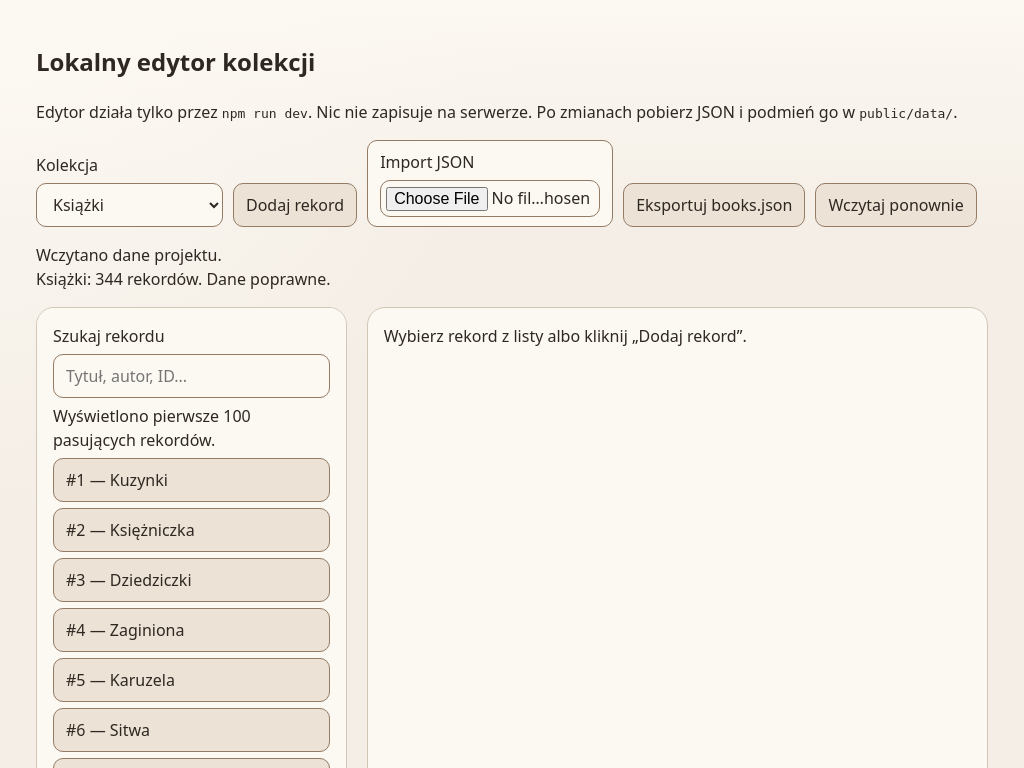
it: collection editor › edits and exports, keeps the ID read-only and blocks an incomplete new book
The width and height of the screenshot is (1024, 768).
Check: the text "Wczytano dane projektu." is shown, box [36,244,222,266]
Step 1. Click the button "#1 — Kuzynki" → (139,480), box [53,458,330,502]
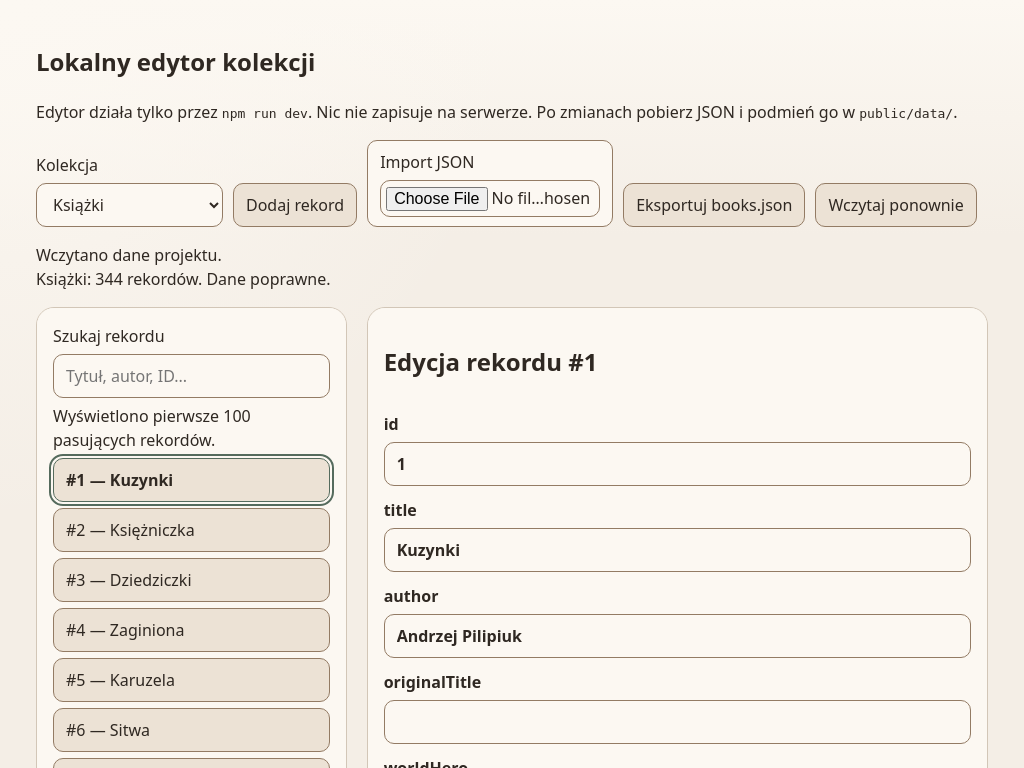
Step 2. Replace the text in the field labelled "title" with "Poprawiony tytuł" → (677,550), box [384,528,971,572]
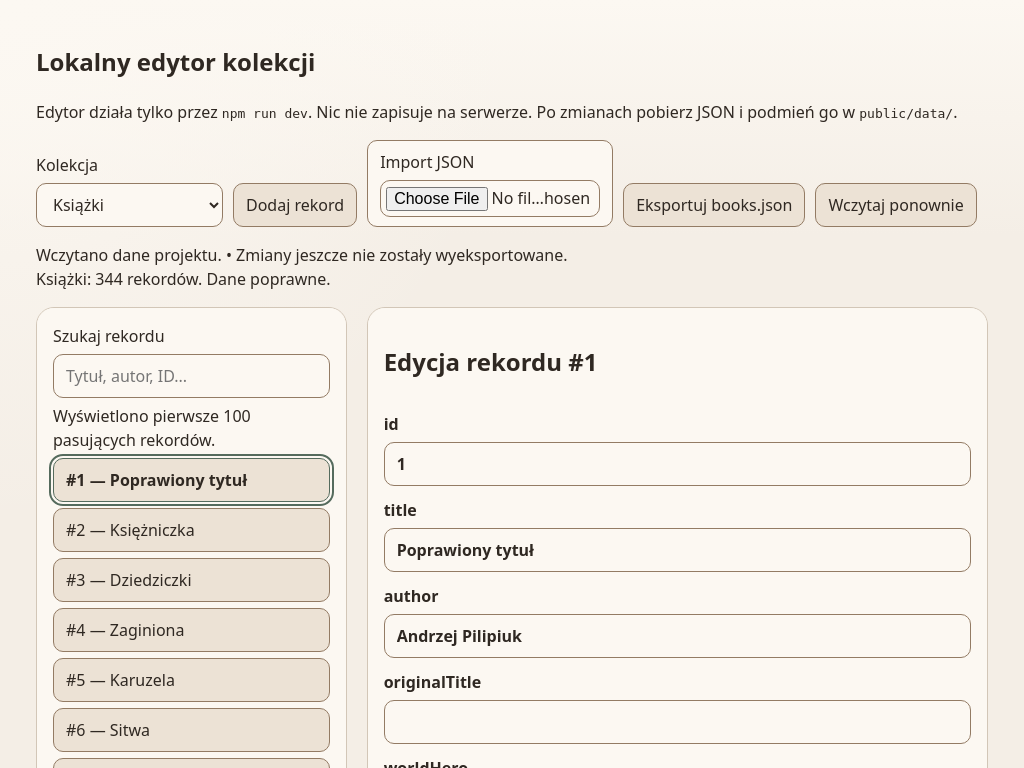
Step 3. Click the button "Eksportuj books.json" → (714,205), box [623,183,805,227]
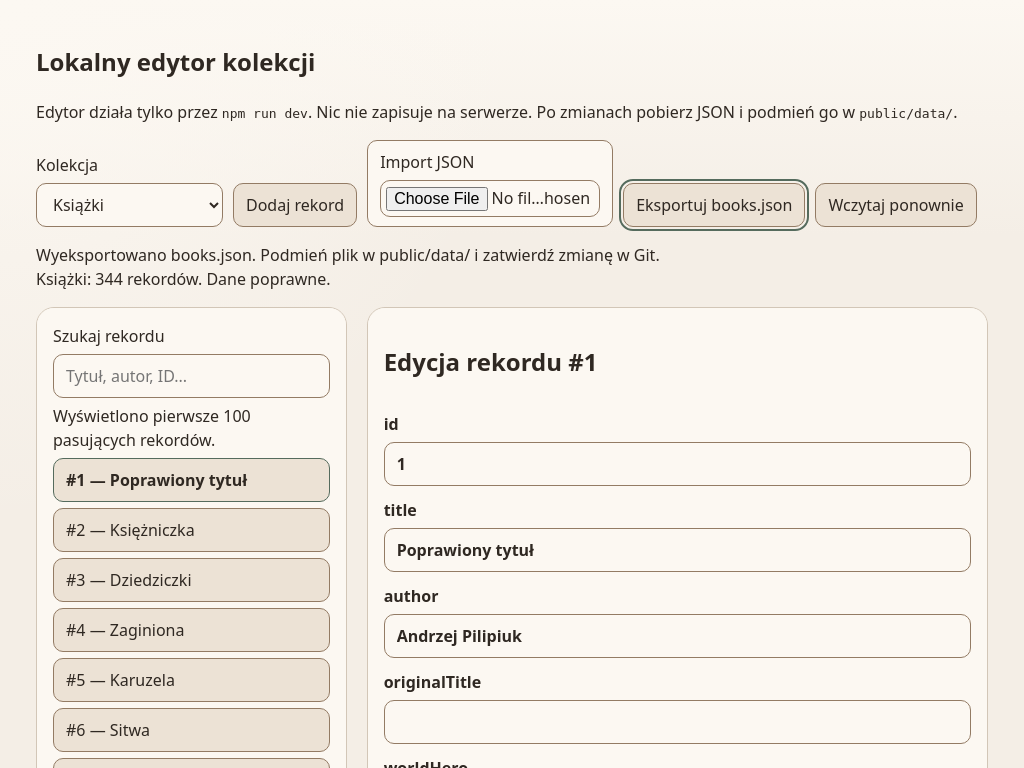
Step 4. Click the button "Dodaj rekord" → (295,205), box [233,183,357,227]
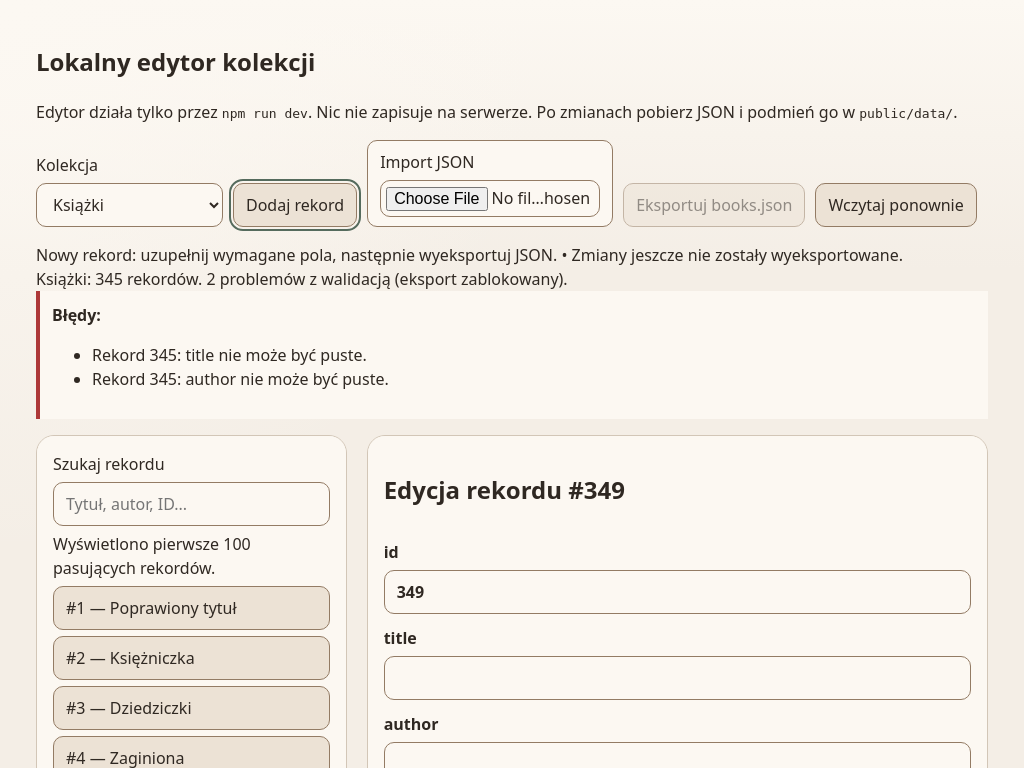
Check: the button "Eksportuj books.json" is disabled, box [623,183,805,227]
Check: the number field labelled "id" holds "349", box [384,570,971,614]
